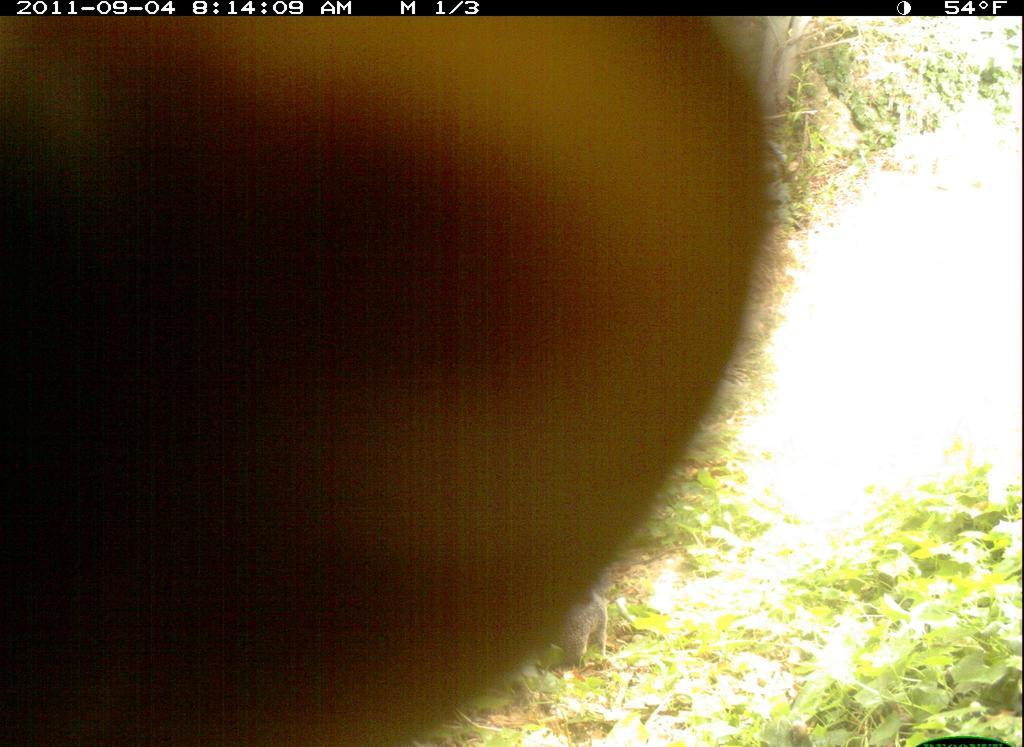squirrel: (539, 572, 615, 676)
